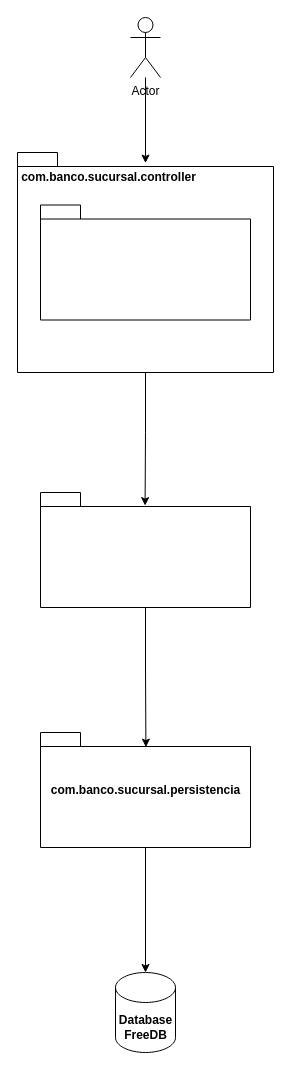
Some shapes in this 291 by 1070 pixel diagram are drawn without their labels. Each missing label, with the box of its shape:
com.banco.sucursal.controller.dto: (40, 204, 250, 320)
com.banco.sucursal.logica: (40, 492, 250, 608)
